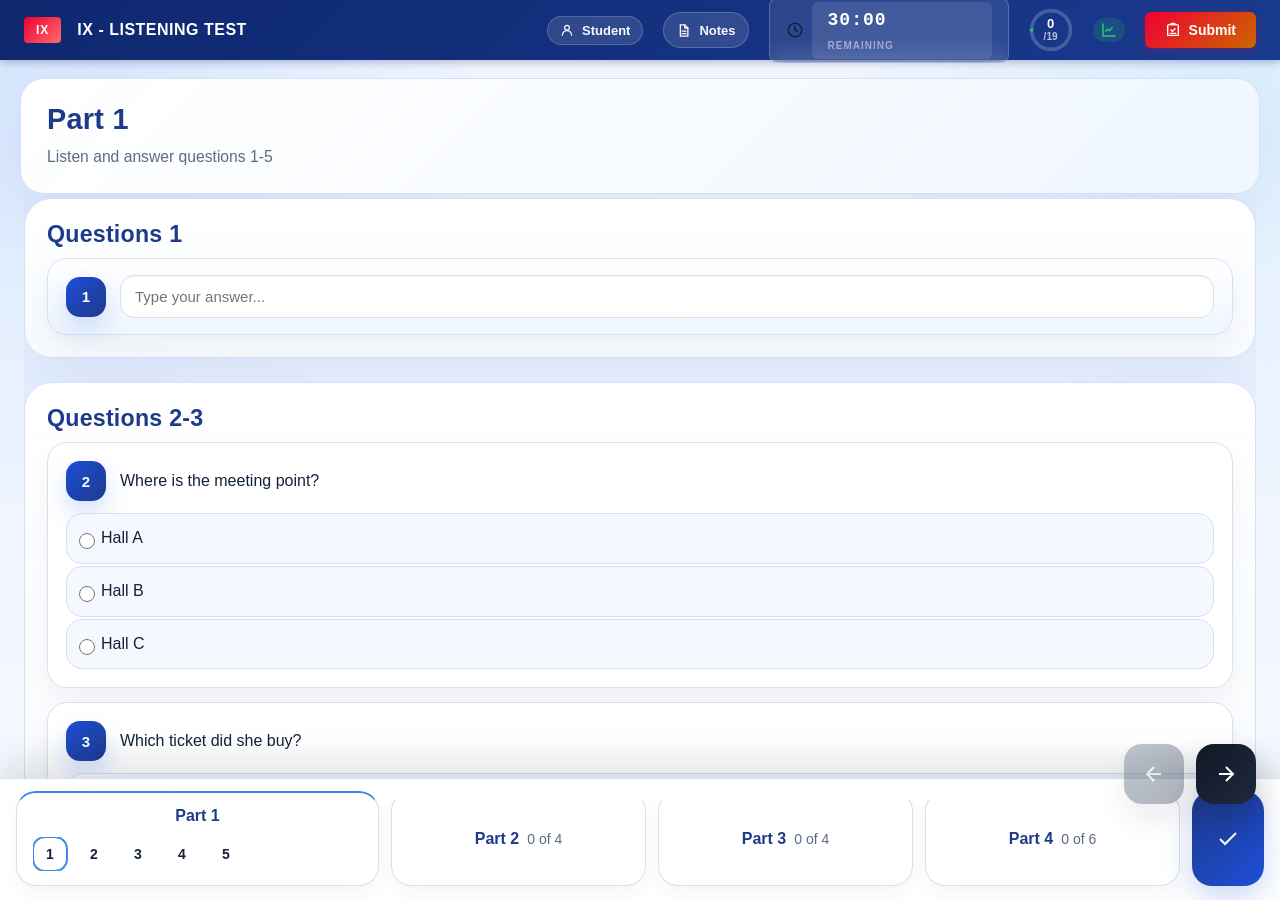
Test: Listening test numbering › shows number badges for notes and table completion blanks in the student runtime
The image size is (1280, 900).
Click the text "Part 3": (764, 839) [742,830,786,848]
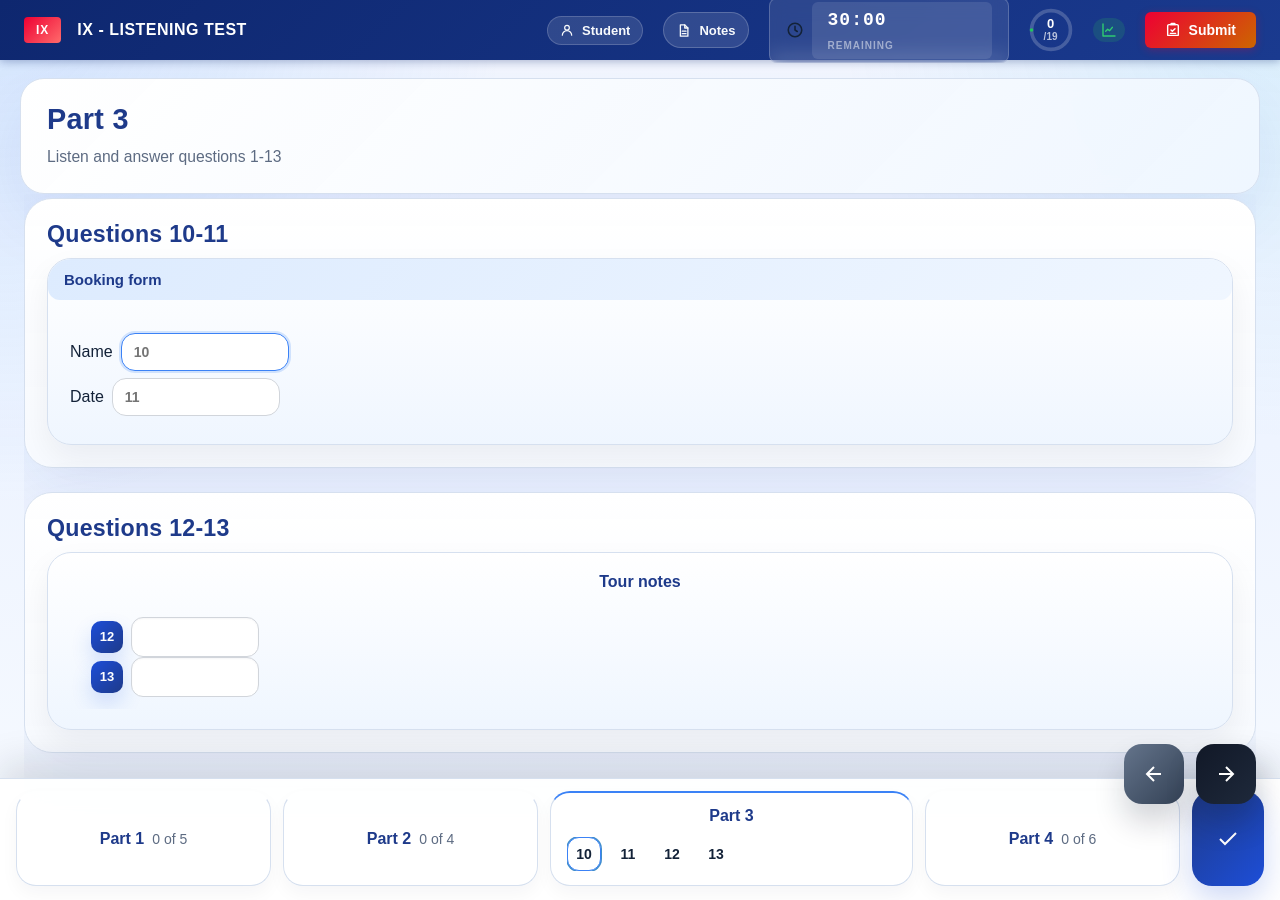
Check: the text "12" below "Questions 12-13" is shown, box [100,629,114,644]
Click the text "Part 4": (1031, 839) [1009,830,1053,848]
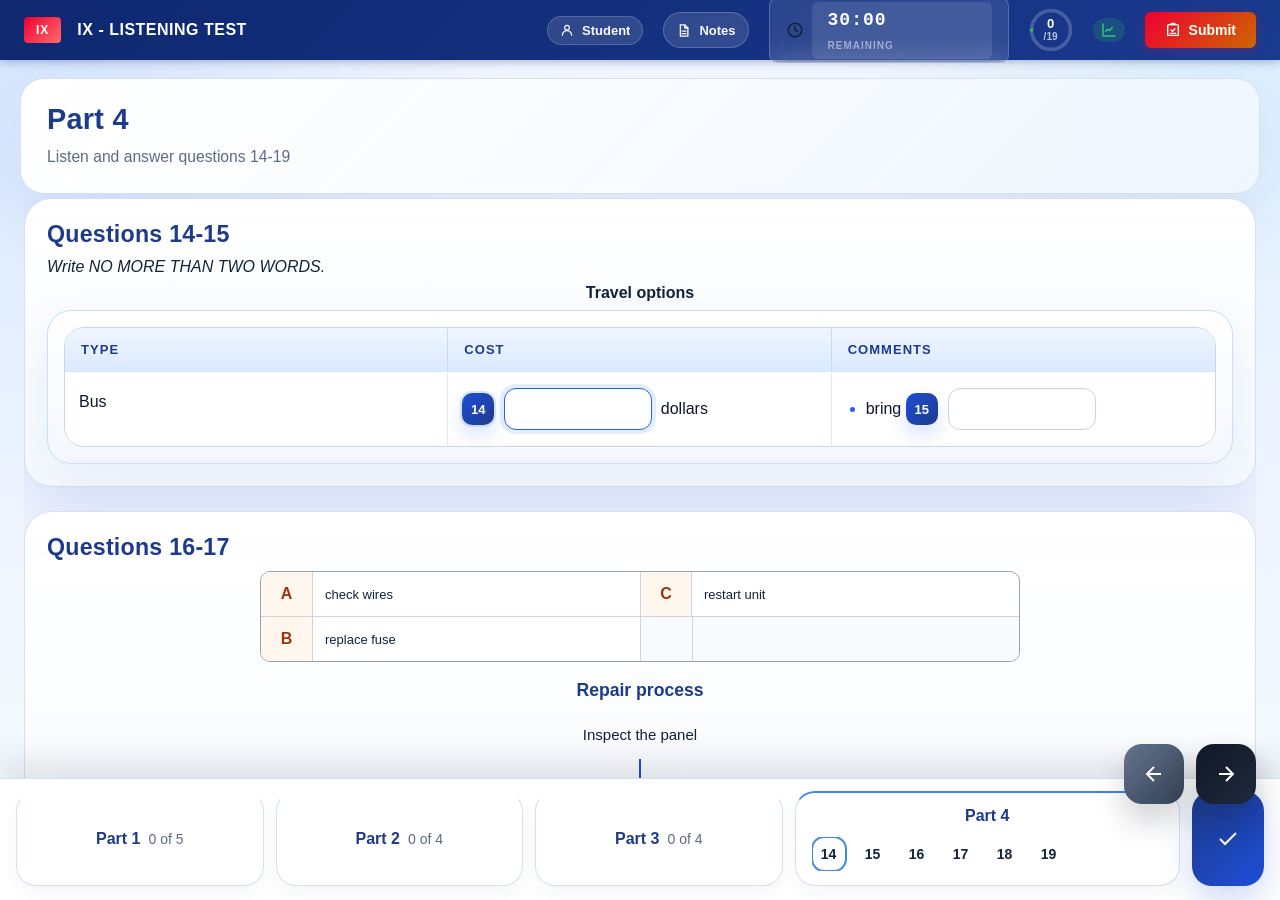
Check: the text "14" in the row of "dollars" is shown, box [471,402,486,417]
